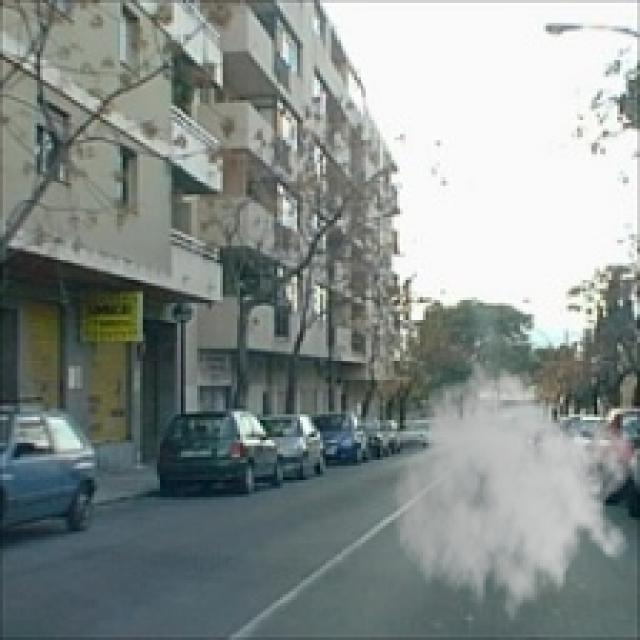Smoke: (392, 357, 637, 637)
